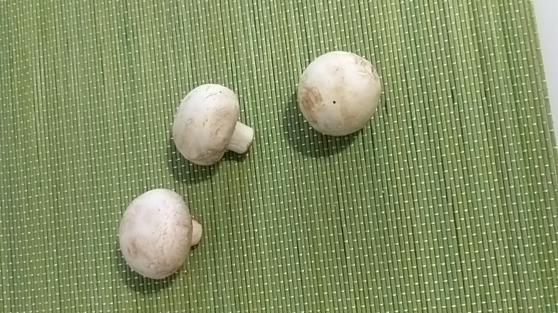champignon: (114, 185, 204, 288), (295, 49, 388, 140), (170, 83, 263, 172)
